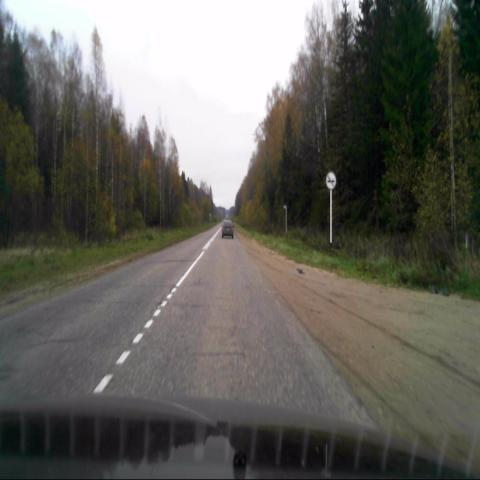3_21: (325, 170, 336, 190)
